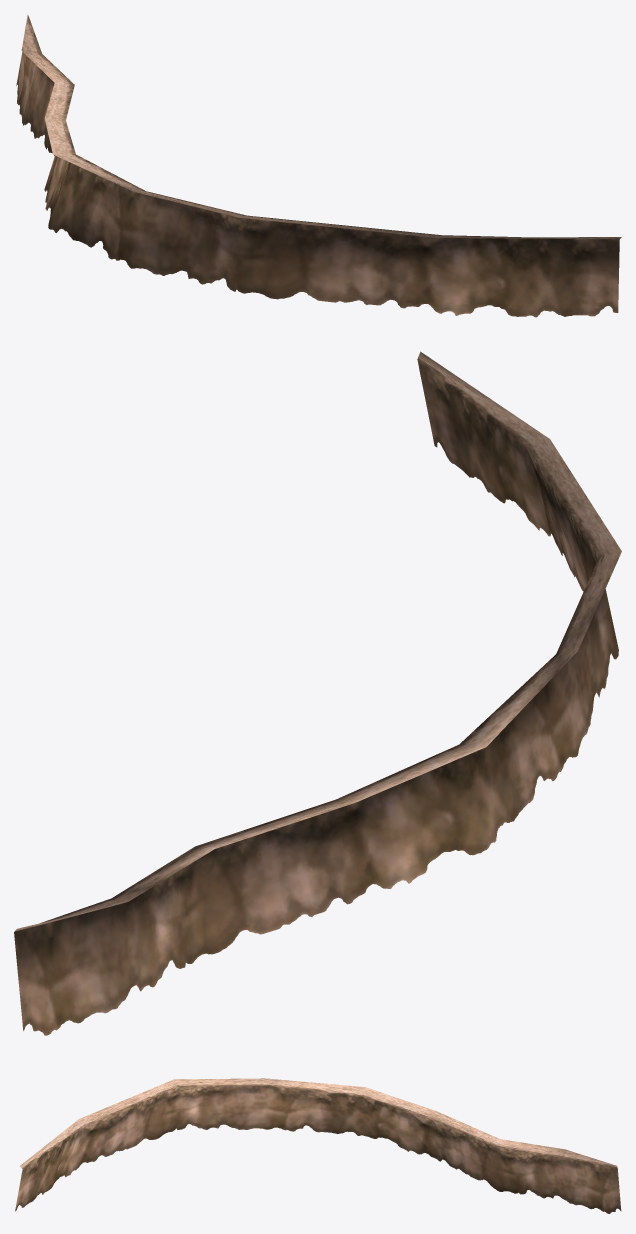
Rendered from EKH_CAVERNS_PS_CA_EDGEGRAB8374655.fbx.
3 renders of one model, top to bottom at view 1: azimuth 30°, elevation 25°; view 2: azimuth 150°, elevation 25°; view 3: azimuth 270°, elevation 25°, orthographic. The views are drawn at different scales.
Visible parts, largest first — view 1: EKH_CAVERNS_PS_CA_EDGEGRAB8374655; view 2: EKH_CAVERNS_PS_CA_EDGEGRAB8374655; view 3: EKH_CAVERNS_PS_CA_EDGEGRAB8374655.
Boxes of the visible parts, left/top/right/bottom form: EKH_CAVERNS_PS_CA_EDGEGRAB8374655: left=16, top=14, right=621, bottom=317; EKH_CAVERNS_PS_CA_EDGEGRAB8374655: left=14, top=351, right=621, bottom=1035; EKH_CAVERNS_PS_CA_EDGEGRAB8374655: left=15, top=1078, right=621, bottom=1213.
Bounding box in the file's own units: 22235 × 10677 × 56256.
Materials: 1 (1 with a texture image).
